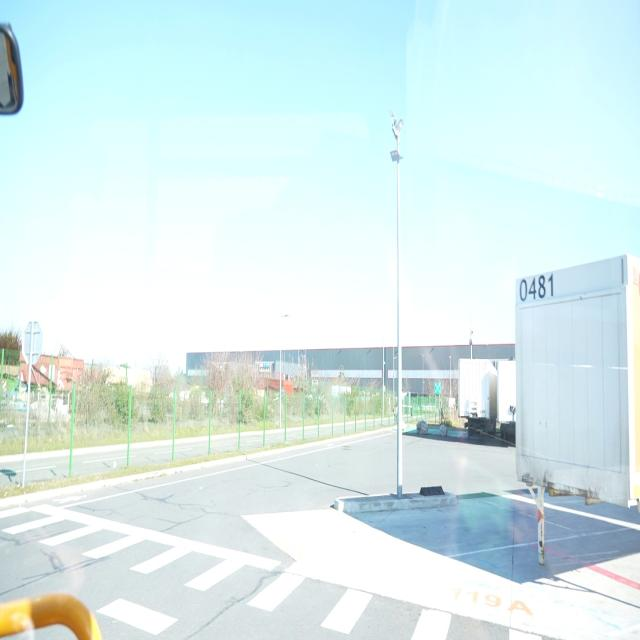Code: (514, 265, 558, 311)
